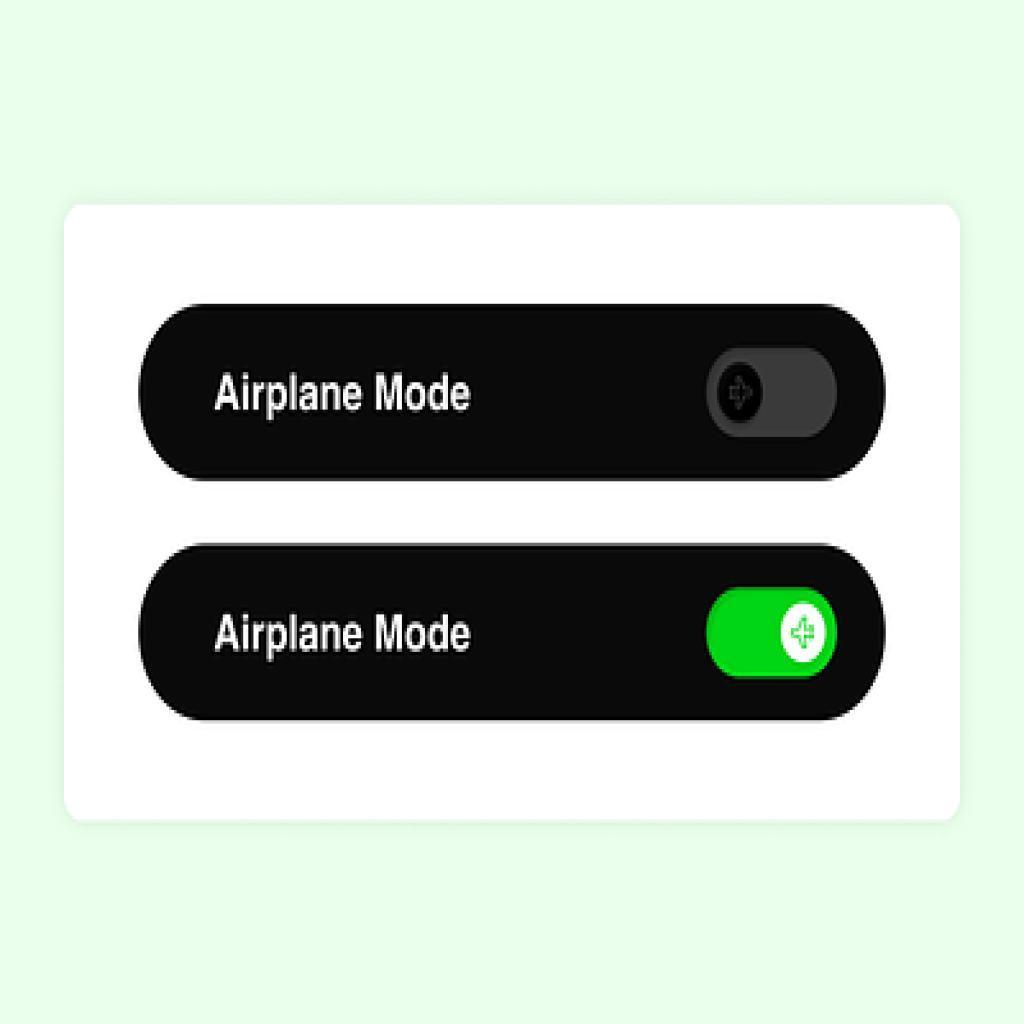label: (214, 369, 477, 425), (217, 613, 479, 663)
switch: (702, 589, 843, 676), (708, 348, 836, 437)
